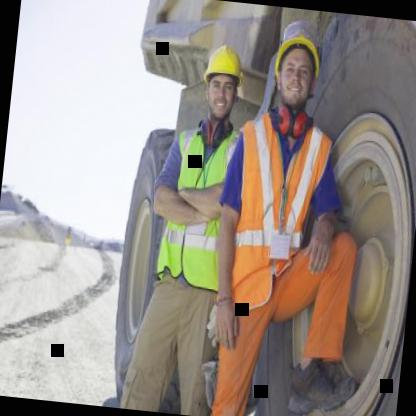helmet: (261, 10, 330, 122), (195, 38, 247, 124)
